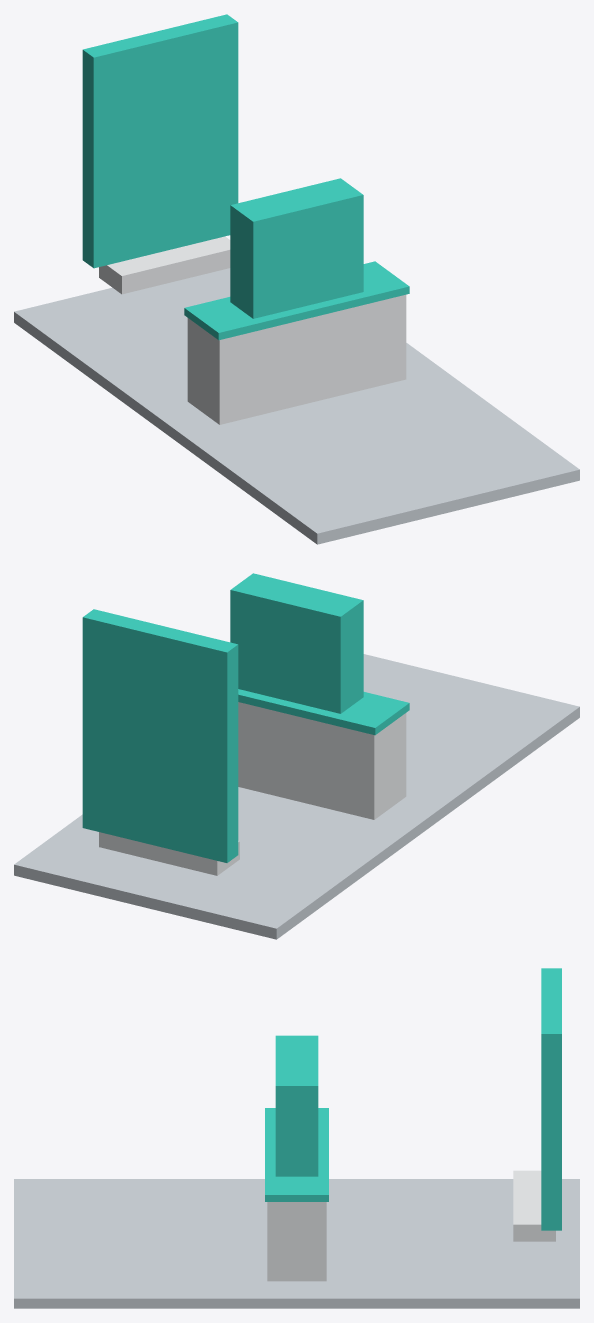
The picture shows the model from 3 angles, top to bottom: view 1: azimuth 30°, elevation 25°; view 2: azimuth 150°, elevation 25°; view 3: azimuth 270°, elevation 25°; orthographic projection. The views are drawn at different scales.
Parts seen in each view (by area): view 1: Exhibition Booth Concept; view 2: Exhibition Booth Concept; view 3: Exhibition Booth Concept.
Part boxes in pixels (x1=…): Exhibition Booth Concept: x1=14, y1=14, x2=579, y2=544; Exhibition Booth Concept: x1=14, y1=573, x2=579, y2=939; Exhibition Booth Concept: x1=14, y1=968, x2=579, y2=1308.
Size of the model in its own units: 3 by 2.9 by 6.
